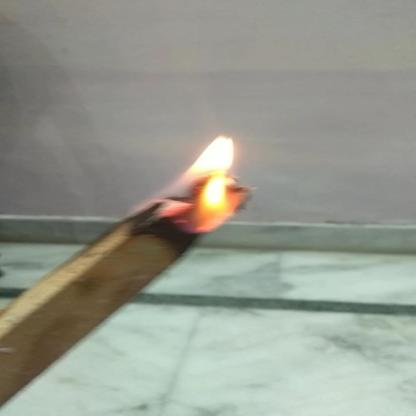fire: (128, 128, 270, 242)
